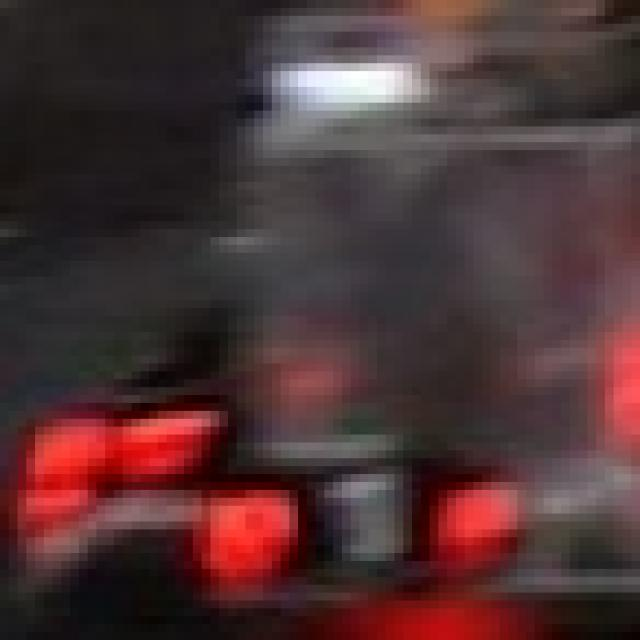R1: (193, 466, 508, 585)
